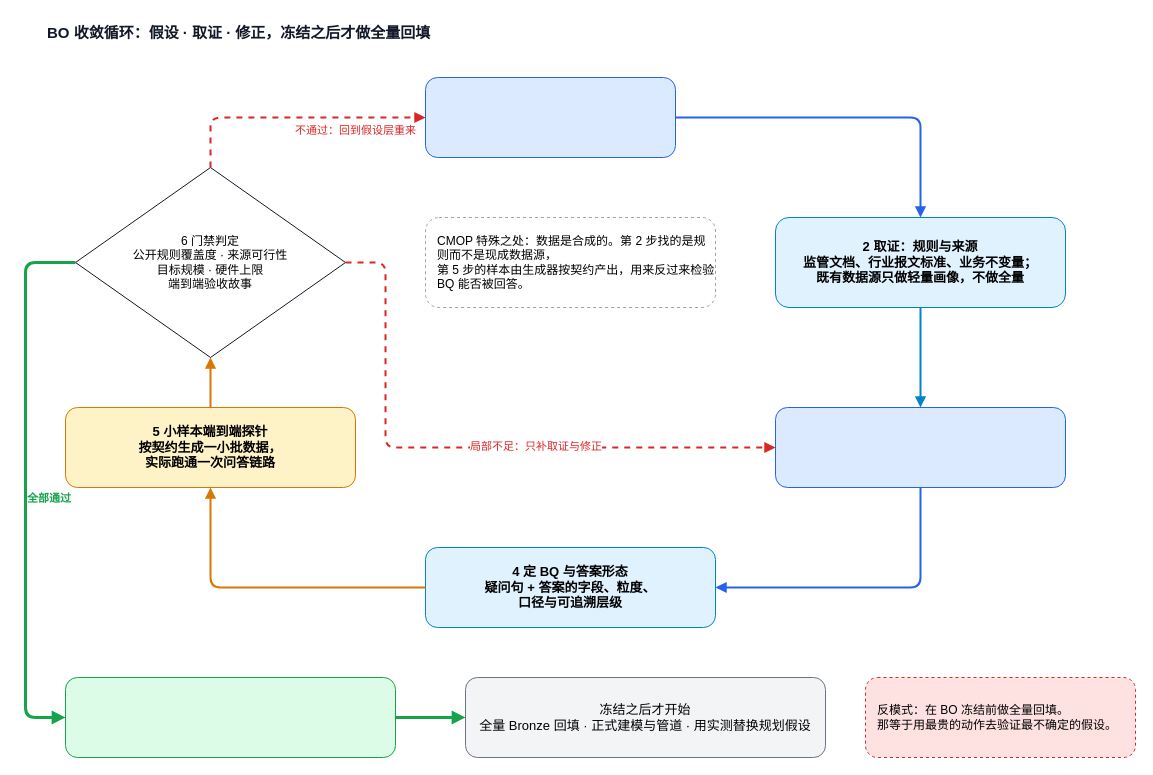
Image size: 1153x775. Some labels were removed from this diagram. Each missing label, with the centre of its shape:
1 提出 BO 假设 先说清楚谁的什么问题， 允许并列多个候选: (x=550, y=117)
3 修正 BO 砍掉取证不支持的候选， 重排主 BO 与支持 BO: (x=920, y=447)
冻结 BO 基线 主 BO 与支持 BO 定名 · 记录被否决的候选 固定成功度量与范围边界: (x=230, y=717)
